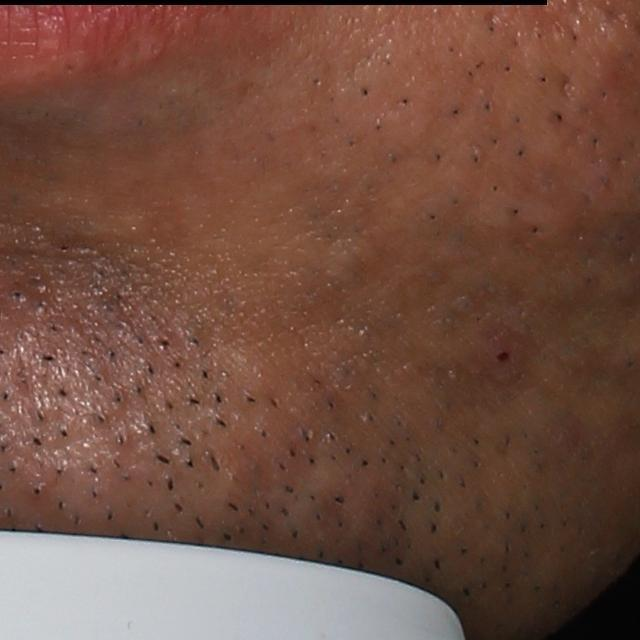atrophic_scar: (557, 77, 575, 102)
hypertrophic_scar: (296, 457, 396, 544), (518, 16, 633, 87), (464, 452, 545, 527), (497, 184, 568, 238), (320, 237, 376, 281)
